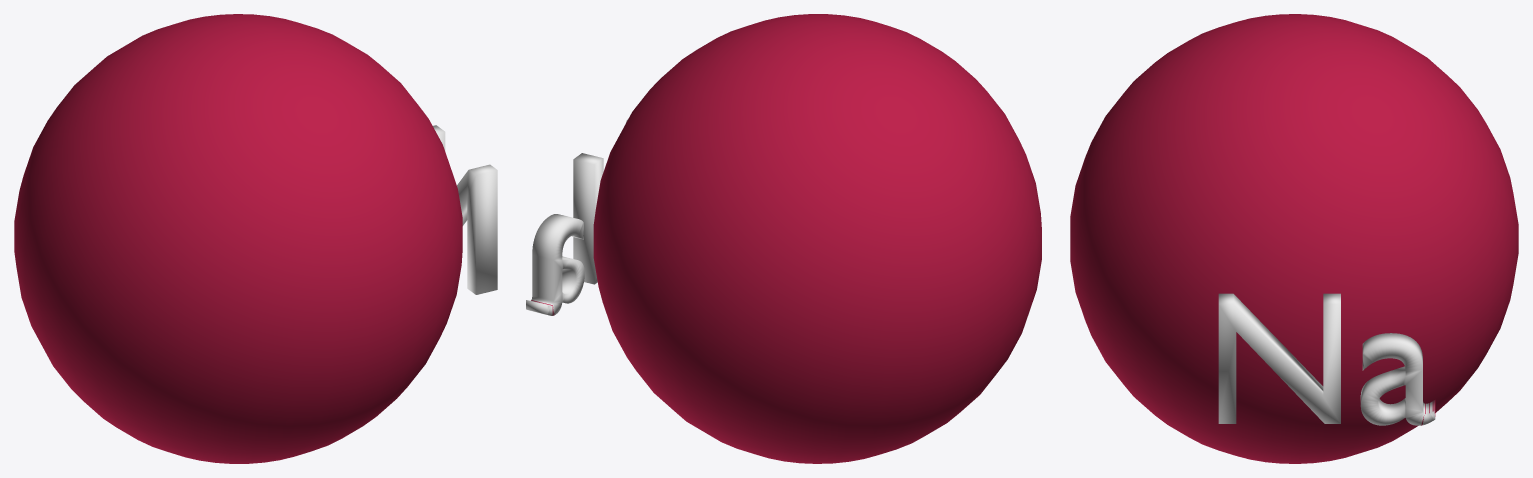
The picture shows the model from 3 angles, left to right: view 1: azimuth 30°, elevation 25°; view 2: azimuth 150°, elevation 25°; view 3: azimuth 270°, elevation 25°; orthographic projection.
Visible parts, largest first — view 1: テキスト; view 2: テキスト; view 3: テキスト.
Part boxes in pixels (x1,y1,x2,y2): テキスト: (14, 14, 497, 463); テキスト: (526, 14, 1041, 463); テキスト: (1070, 14, 1518, 463).
Size of the model in its own units: 213 by 200 by 199.
